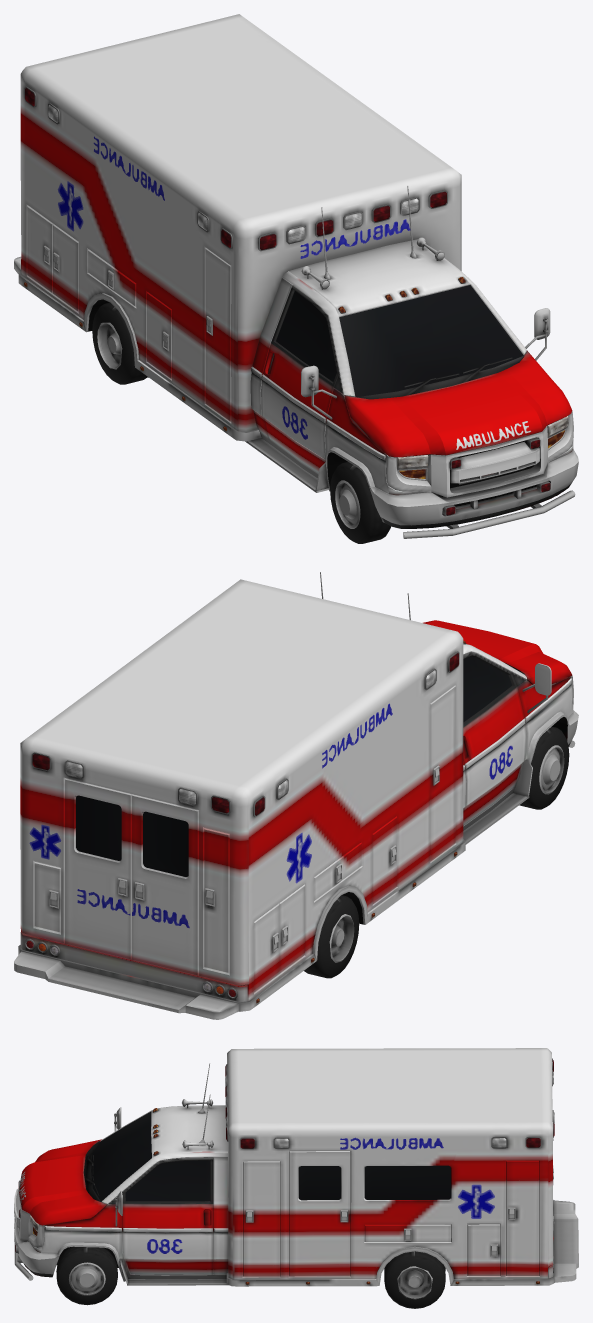
Rendered from ambulance.glb.
The picture shows the model from 3 angles, top to bottom: view 1: azimuth 30°, elevation 25°; view 2: azimuth 150°, elevation 25°; view 3: azimuth 270°, elevation 25°; orthographic projection. The views are drawn at different scales.
Visible parts, largest first — view 1: ambulance body, Front Right Wheel, Rear Right Wheel; view 2: ambulance body, Rear Right Wheel, Front Right Wheel; view 3: ambulance body, Front Left Wheel, Rear Left Wheel.
Part boxes in pixels (x1=…): ambulance body: x1=14, y1=14, x2=578, y2=538; Front Right Wheel: x1=330, y1=462, x2=391, y2=543; Rear Right Wheel: x1=92, y1=302, x2=148, y2=384; ambulance body: x1=14, y1=572, x2=578, y2=1019; Rear Right Wheel: x1=304, y1=895, x2=359, y2=978; Front Right Wheel: x1=519, y1=726, x2=569, y2=809; ambulance body: x1=14, y1=1048, x2=578, y2=1286; Front Left Wheel: x1=56, y1=1246, x2=117, y2=1305; Rear Left Wheel: x1=384, y1=1251, x2=445, y2=1308.
Bounding box in the file's own units: 2.59 × 2.57 × 6.9.
1 material, 1 textured.
